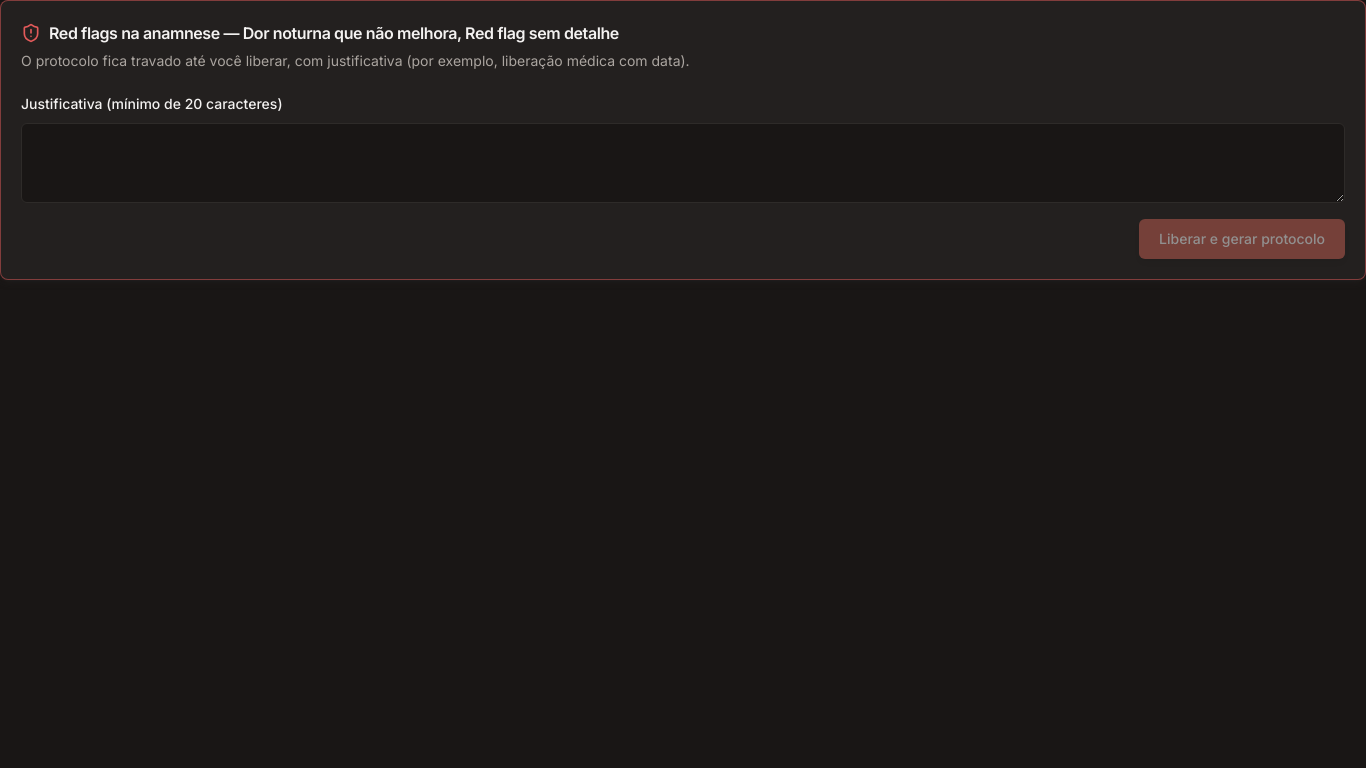
Scenario: Etapa 5a: red flags › liberar grava a liberação, lê o status de novo e só então gera; a liberação aparece acima do protocolo
The image size is (1366, 768).
Type "Liberado pelo médico sintético em 10/11" into the text box labelled "Justificativa (mínimo de 20 caracteres)" at coordinates (683, 163), box [21,123,1345,203]
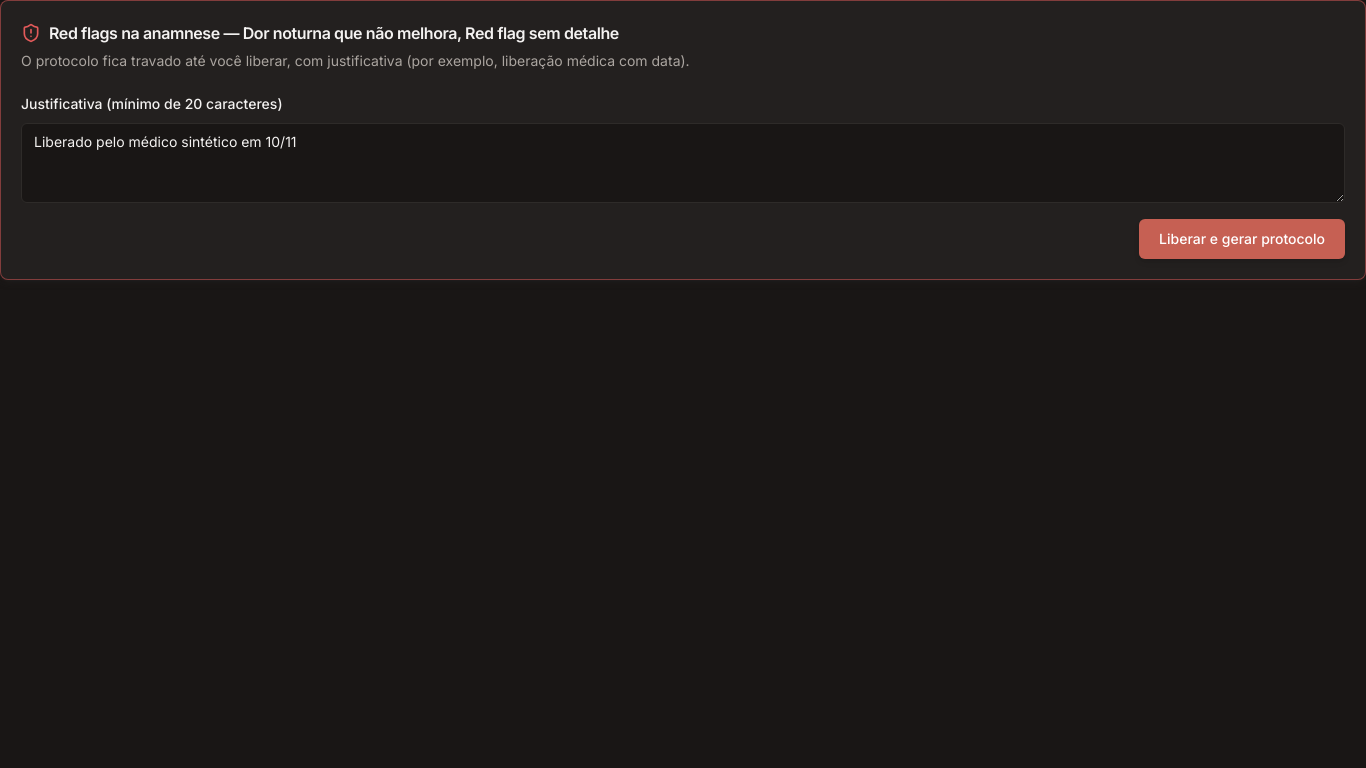
Click the button "Liberar e gerar protocolo" at coordinates (1242, 239), box [1139,219,1345,259]
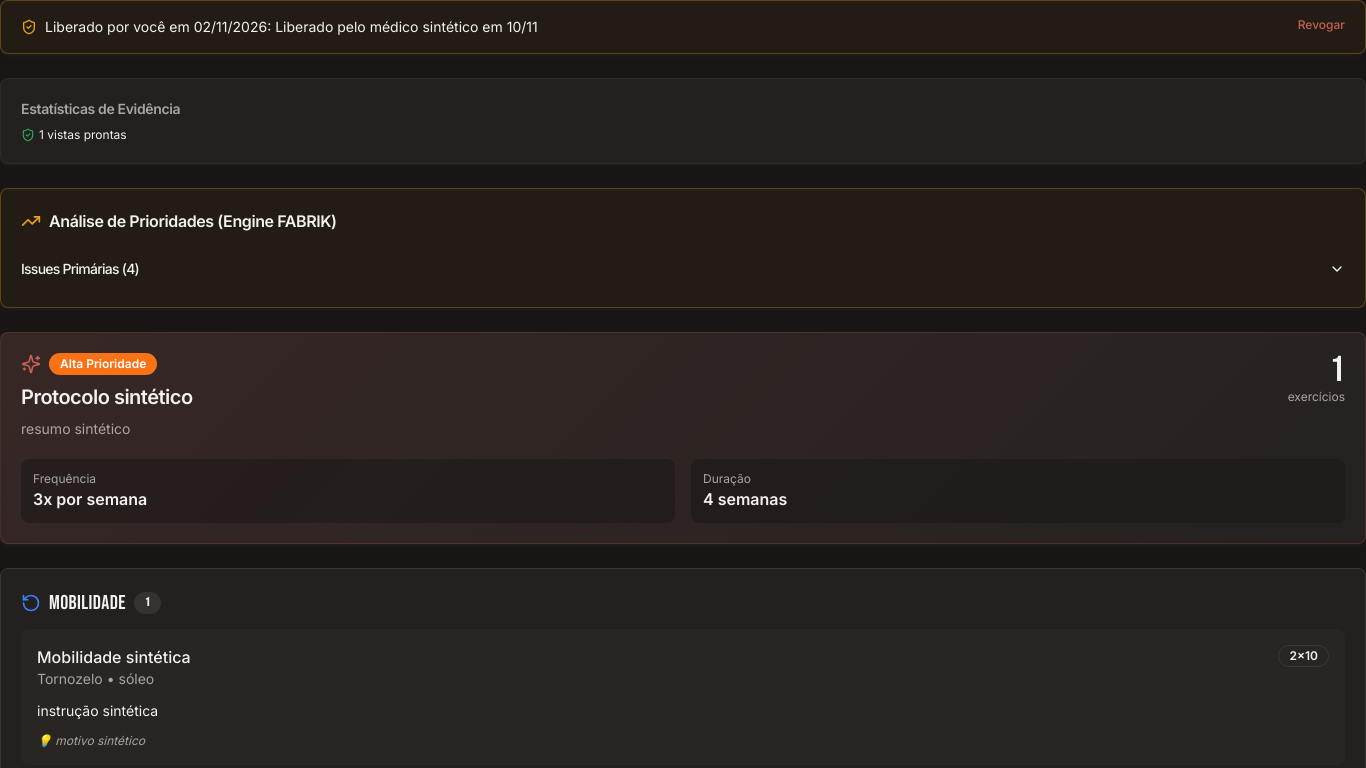
expect the button "Revogar" is shown: met, box [1298,17,1345,33]
